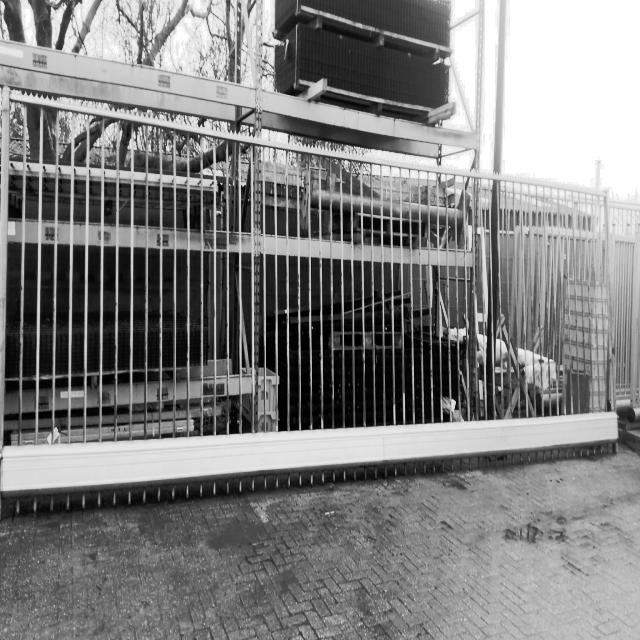fences: (2, 95, 640, 402)
